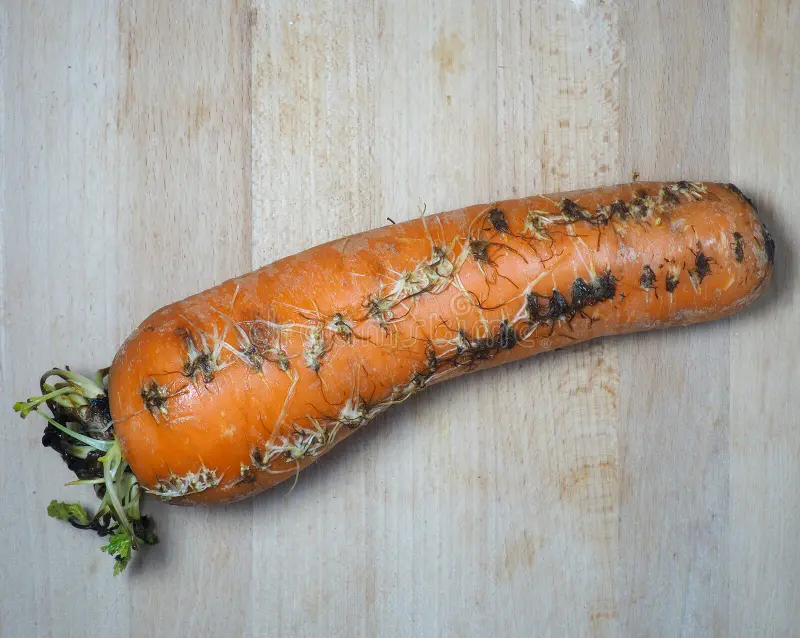rotten carrot: (31, 173, 800, 576)
